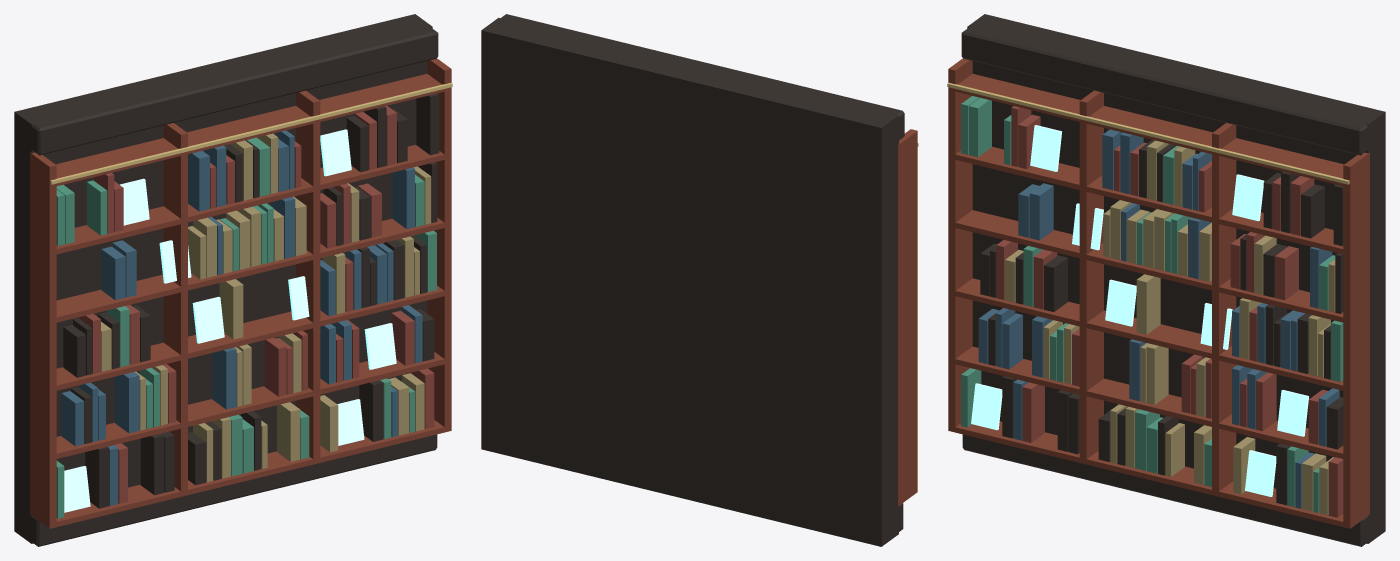
File: wall_ex_shelves.glb
The picture shows the model from 3 angles, left to right: view 1: azimuth 30°, elevation 25°; view 2: azimuth 150°, elevation 25°; view 3: azimuth 330°, elevation 25°; orthographic projection.
Parts seen in each view (by area): view 1: wall_ex_shelves; view 2: wall_ex_shelves; view 3: wall_ex_shelves.
Boxes of the visible parts, x1,y1,x2,y2 form: wall_ex_shelves: [14, 14, 452, 546]; wall_ex_shelves: [481, 14, 918, 546]; wall_ex_shelves: [947, 14, 1385, 546].
Bounding box in the file's own units: 4.01 × 4 × 0.645.
